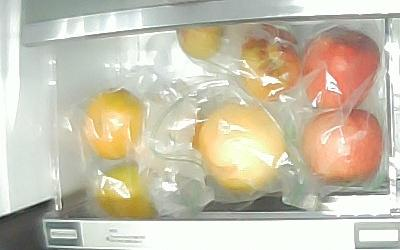apple_vinyl: (302, 27, 379, 111), (302, 108, 382, 184)
grapefruit_vinyl: (199, 103, 288, 194)
persimmon_vinyl: (82, 87, 143, 160), (94, 163, 156, 217)
prune_vinyl: (237, 24, 299, 102), (175, 26, 224, 60)
